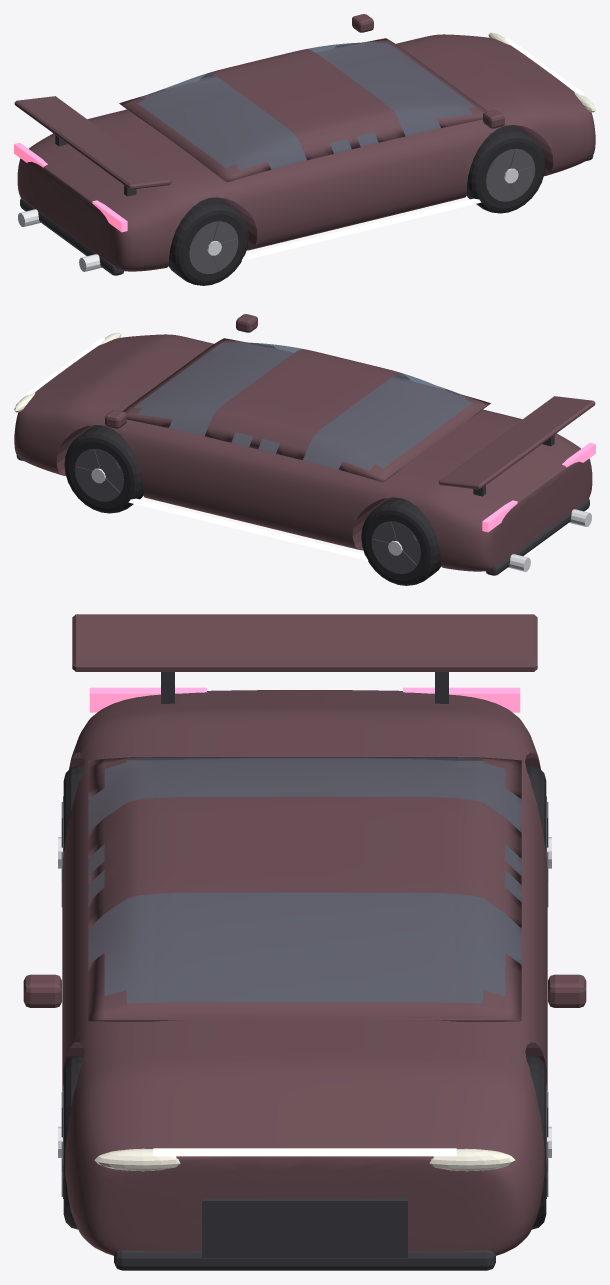
Rendered from hyper_nova.fbx.
The picture shows the model from 3 angles, top to bottom: view 1: azimuth 30°, elevation 25°; view 2: azimuth 150°, elevation 25°; view 3: azimuth 270°, elevation 25°; orthographic projection. The views are drawn at different scales.
Visible parts, largest first — view 1: Body.017, Glass.017, Tire.017, Rim.017, Neon.006, Trim.017, Chrome.017, TailLight.017; view 2: Body.017, Glass.017, Tire.017, Rim.017, Neon.006, Trim.017, Chrome.017, TailLight.017; view 3: Body.017, Glass.017, Trim.017, Tire.017, HeadLight.017, Neon.006, TailLight.017, Rim.017.
Boxes of the visible parts, box(x1,y1,x2,y2) form: Body.017: box(14, 14, 595, 271); Glass.017: box(137, 41, 475, 170); Tire.017: box(168, 125, 545, 285); Rim.017: box(189, 149, 535, 274); Neon.006: box(241, 37, 583, 260); Trim.017: box(20, 135, 593, 275); Chrome.017: box(18, 168, 518, 271); TailLight.017: box(14, 142, 127, 232); Body.017: box(14, 314, 595, 571); Glass.017: box(134, 341, 472, 470); Tire.017: box(64, 425, 441, 585); Rim.017: box(74, 449, 420, 574); Neon.006: box(26, 337, 368, 560); Trim.017: box(16, 435, 589, 575); Chrome.017: box(91, 468, 591, 571); TailLight.017: box(482, 442, 595, 532); Body.017: box(23, 614, 586, 1255); Glass.017: box(88, 757, 521, 1003); Trim.017: box(114, 672, 495, 1270); Tire.017: box(63, 765, 546, 1229); HeadLight.017: box(94, 1148, 515, 1171); Neon.006: box(153, 1148, 456, 1156); TailLight.017: box(89, 687, 520, 712); Rim.017: box(61, 796, 548, 1198).
Bounding box in the file's own units: 1641 × 378 × 804.
